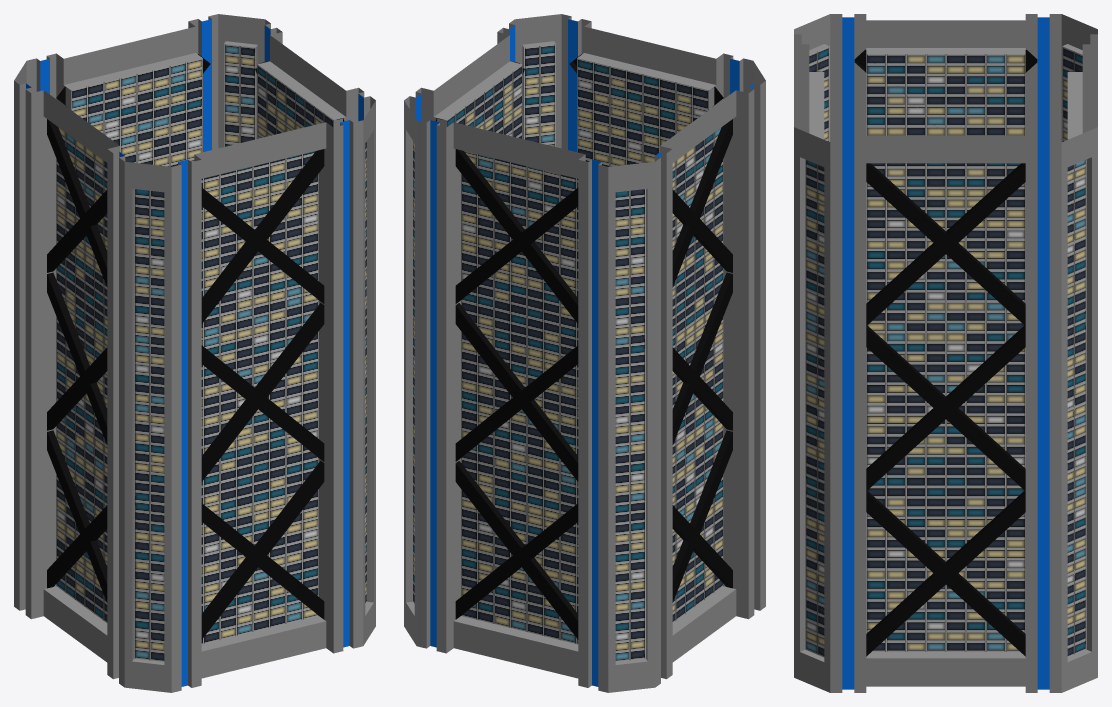
File: SM_BuildingBlock.FBX
3 renders of one model, left to right at view 1: azimuth 30°, elevation 25°; view 2: azimuth 150°, elevation 25°; view 3: azimuth 270°, elevation 25°, orthographic. The views are drawn at different scales.
Visible parts, largest first — view 1: Box001; view 2: Box001; view 3: Box001.
Part boxes in pixels (x1,y1,x2,y2): Box001: [14, 14, 375, 692]; Box001: [404, 14, 765, 692]; Box001: [794, 14, 1097, 692].
Size of the model in its own units: 4000 by 8000 by 4000.
4 materials, 1 textured.
